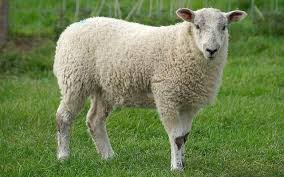koyun: (52, 7, 244, 169)
